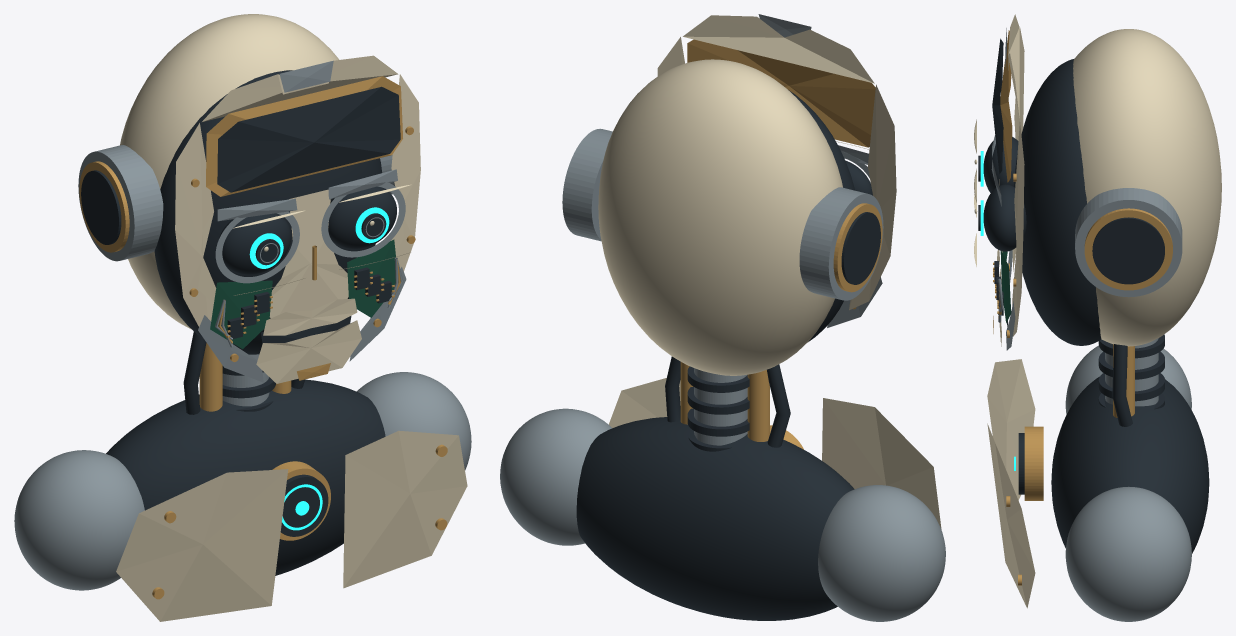
The model's file is teslo-v2.glb.
3 views of the same model, side by side, from view 1: azimuth 30°, elevation 25°; view 2: azimuth 150°, elevation 25°; view 3: azimuth 270°, elevation 25° (orthographic). The views are drawn at different scales.
Visible parts, largest first — view 1: Torax interno, Peitoral marfim, Calota traseira, Peitoral marfim.001, Articulacao ombro, Monitor vidro, Face estrutura, Painel lateral, Articulacao ombro.001, Ponte facial, Modulo temporal, Mandibula movel (+23 smaller); view 2: Calota traseira, Torax interno, Articulacao ombro, Articulacao ombro.001, Peitoral marfim, Monitor aro, Coroa frontal, Modulo temporal, Painel lateral, Modulo temporal.001, Disco temporal, Coluna cervical (+10 smaller); view 3: Calota traseira, Torax interno, Face estrutura, Articulacao ombro.001, Modulo temporal.001, Disco temporal.001, Peitoral marfim, Peitoral marfim.001, Tampa temporal.001, Optica negra.001, Articulacao ombro, Painel lateral.001 (+14 smaller).
Boxes of the visible parts, <box> form: Torax interno: <box>106,379,385,575</box>; Peitoral marfim: <box>116,469,288,621</box>; Calota traseira: <box>120,14,339,329</box>; Peitoral marfim.001: <box>343,430,467,588</box>; Articulacao ombro: <box>14,450,144,590</box>; Monitor vidro: <box>217,86,400,192</box>; Face estrutura: <box>154,70,382,354</box>; Painel lateral: <box>175,123,232,343</box>; Articulacao ombro.001: <box>357,372,471,470</box>; Ponte facial: <box>269,189,348,317</box>; Modulo temporal: <box>78,145,163,261</box>; Mandibula movel: <box>256,320,361,383</box>; Calota traseira: <box>598,59,842,375</box>; Torax interno: <box>576,417,854,620</box>; Articulacao ombro: <box>818,485,945,621</box>; Articulacao ombro.001: <box>500,408,612,545</box>; Peitoral marfim: <box>822,398,941,529</box>; Monitor aro: <box>687,39,875,147</box>; Coroa frontal: <box>683,15,874,83</box>; Modulo temporal: <box>799,187,883,300</box>; Painel lateral: <box>849,84,896,310</box>; Modulo temporal.001: <box>562,128,612,241</box>; Disco temporal: <box>841,212,880,284</box>; Coluna cervical: <box>694,368,747,445</box>; Calota traseira: <box>1073,29,1221,346</box>; Torax interno: <box>1051,376,1209,553</box>; Face estrutura: <box>1014,59,1101,345</box>; Articulacao ombro.001: <box>1065,486,1191,621</box>; Modulo temporal.001: <box>1075,188,1182,297</box>; Disco temporal.001: <box>1092,217,1164,284</box>; Peitoral marfim: <box>987,359,1035,500</box>; Peitoral marfim.001: <box>987,423,1035,608</box>; Tampa temporal.001: <box>1084,208,1172,290</box>; Optica negra.001: <box>983,184,1026,251</box>; Articulacao ombro: <box>1065,345,1191,414</box>; Painel lateral.001: <box>1012,122,1024,336</box>.
Size of the model in its own units: 3.08 by 3.72 by 1.57.
